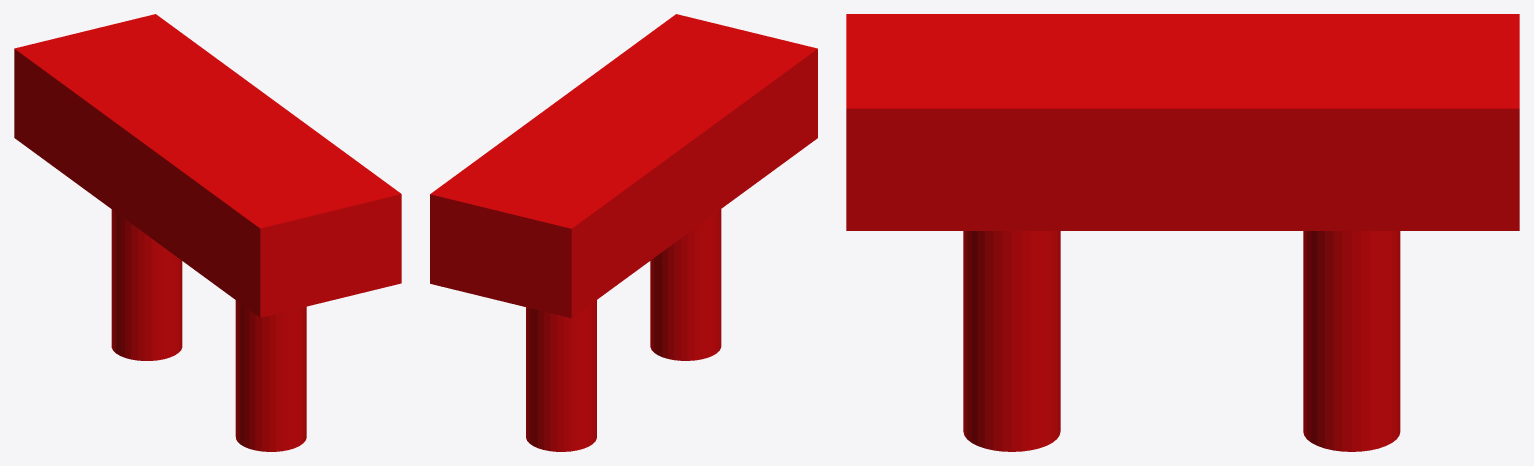
The model's file is Part1_Pillow.fbx.
3 views of the same model, side by side, from view 1: azimuth 30°, elevation 25°; view 2: azimuth 150°, elevation 25°; view 3: azimuth 270°, elevation 25° (orthographic). The views are drawn at different scales.
Parts seen in each view (by area): view 1: Pillow, NeckLeft, NeckLeft.001; view 2: Pillow, NeckLeft.001, NeckLeft; view 3: Pillow, NeckLeft, NeckLeft.001.
Part boxes in pixels (x1,y1,x2,y2): Pillow: (14, 14, 401, 317); NeckLeft: (235, 300, 306, 451); NeckLeft.001: (111, 209, 182, 360); Pillow: (430, 14, 817, 318); NeckLeft.001: (526, 300, 596, 451); NeckLeft: (650, 209, 721, 360); Pillow: (846, 14, 1519, 230); NeckLeft: (963, 231, 1060, 451); NeckLeft.001: (1303, 231, 1400, 451).
Size of the model in its own units: 331 by 604 by 997.
